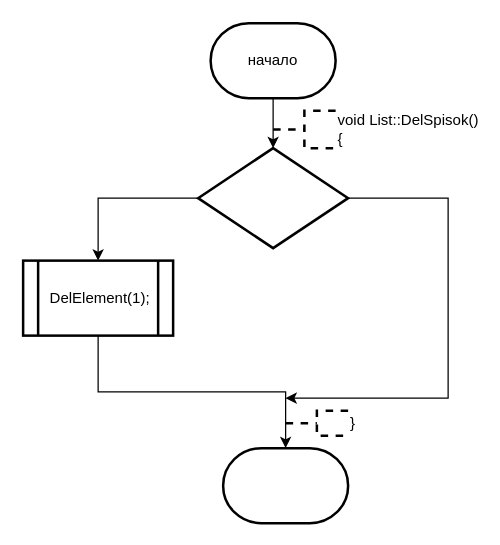
Some shapes in this 500 by 545 pixel diagram are drawn without their labels. The shapes that lost their labels are listed below. From the top down, each one's box as (x1, y1, x2, y2) in pixels, then its label:
(196, 146, 349, 249): while (Count != 0)
(221, 446, 349, 524): конец
